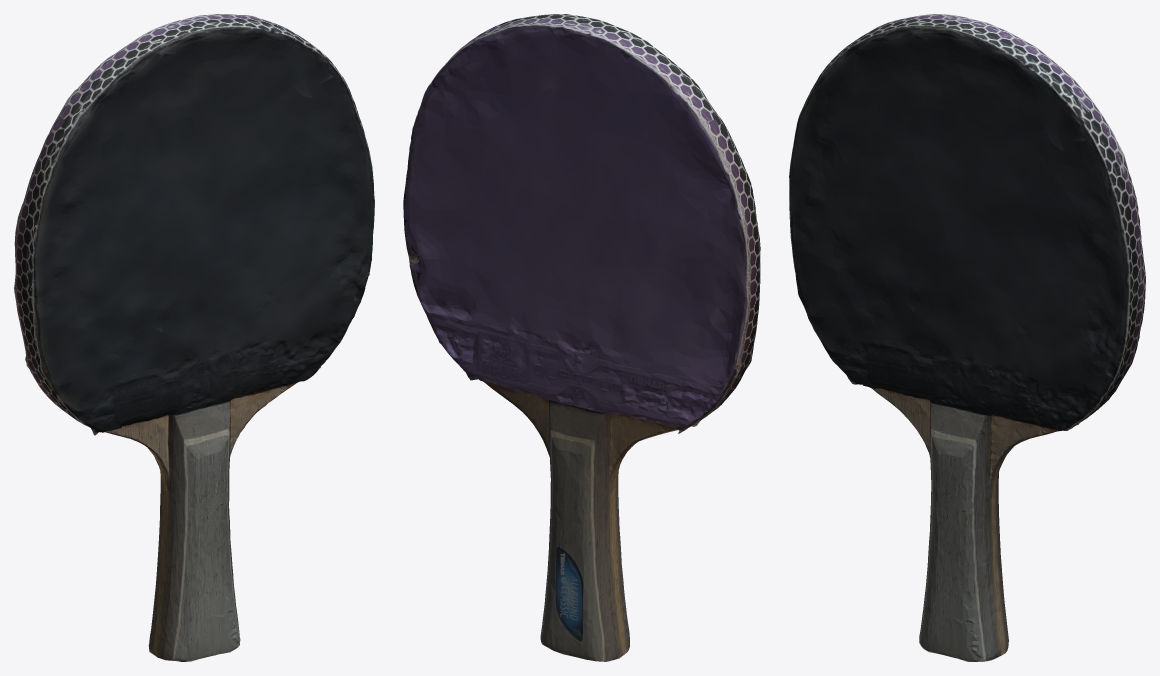
The model's file is TT_Racket.obj.
3 renders of one model, left to right at view 1: azimuth 30°, elevation 25°; view 2: azimuth 150°, elevation 25°; view 3: azimuth 330°, elevation 25°, orthographic.
Visible parts, largest first — view 1: TT_Racket.001; view 2: TT_Racket.001; view 3: TT_Racket.001.
Part boxes in pixels (x1,y1,x2,y2): TT_Racket.001: (14, 14, 374, 661); TT_Racket.001: (403, 14, 760, 661); TT_Racket.001: (789, 14, 1145, 661).
Size of the model in its own units: 0.1514 by 0.26 by 0.0238.
1 material, 1 textured.
